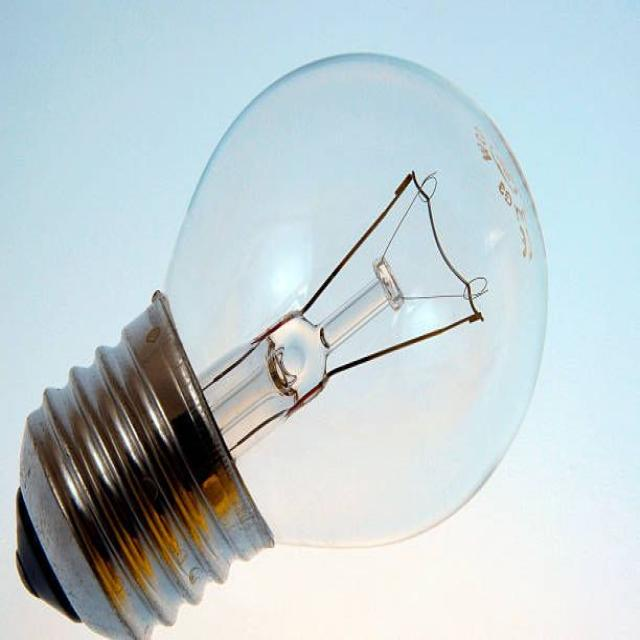electronic: (14, 49, 549, 638)
